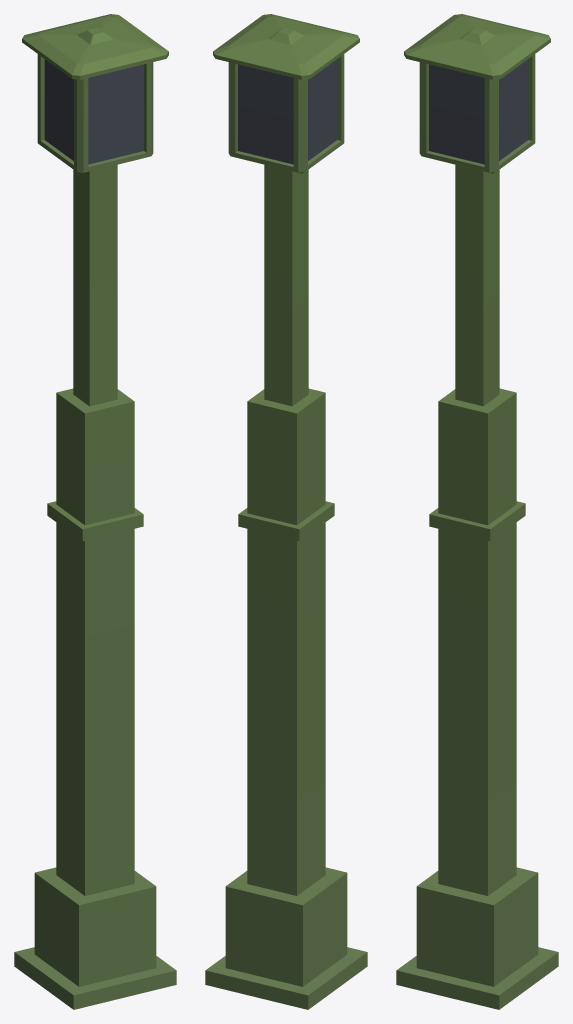
File: Lantern_01.fbx
3 views of the same model, side by side, from view 1: azimuth 30°, elevation 25°; view 2: azimuth 150°, elevation 25°; view 3: azimuth 330°, elevation 25° (orthographic).
Visible parts, largest first — view 1: Lantern_01; view 2: Lantern_01; view 3: Lantern_01.
Part boxes in pixels (x1,y1,x2,y2): Lantern_01: (14, 14, 176, 1009); Lantern_01: (205, 14, 367, 1009); Lantern_01: (396, 14, 558, 1009).
Size of the model in its own units: 0.2934 by 2.58 by 0.2934.
